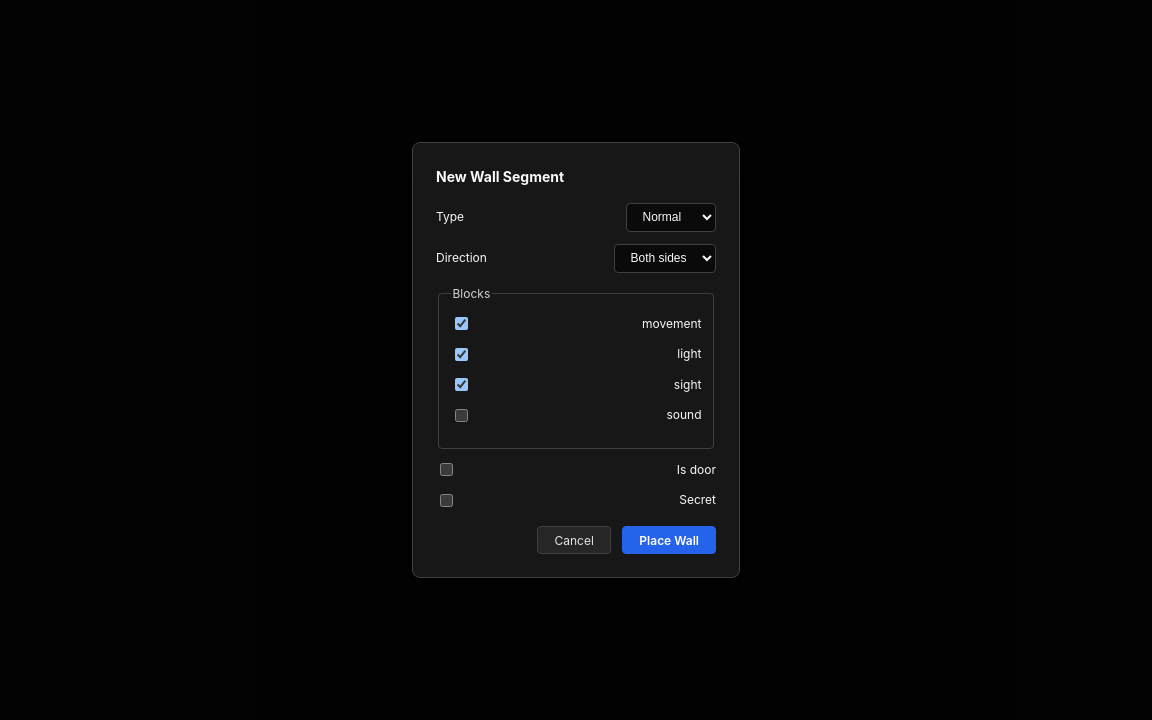
Scenario: WallConfigModal › toggles Is door checkbox
The width and height of the screenshot is (1152, 720).
Click the checkbox labelled "Is door" at (446, 470), box [440,463,453,476]
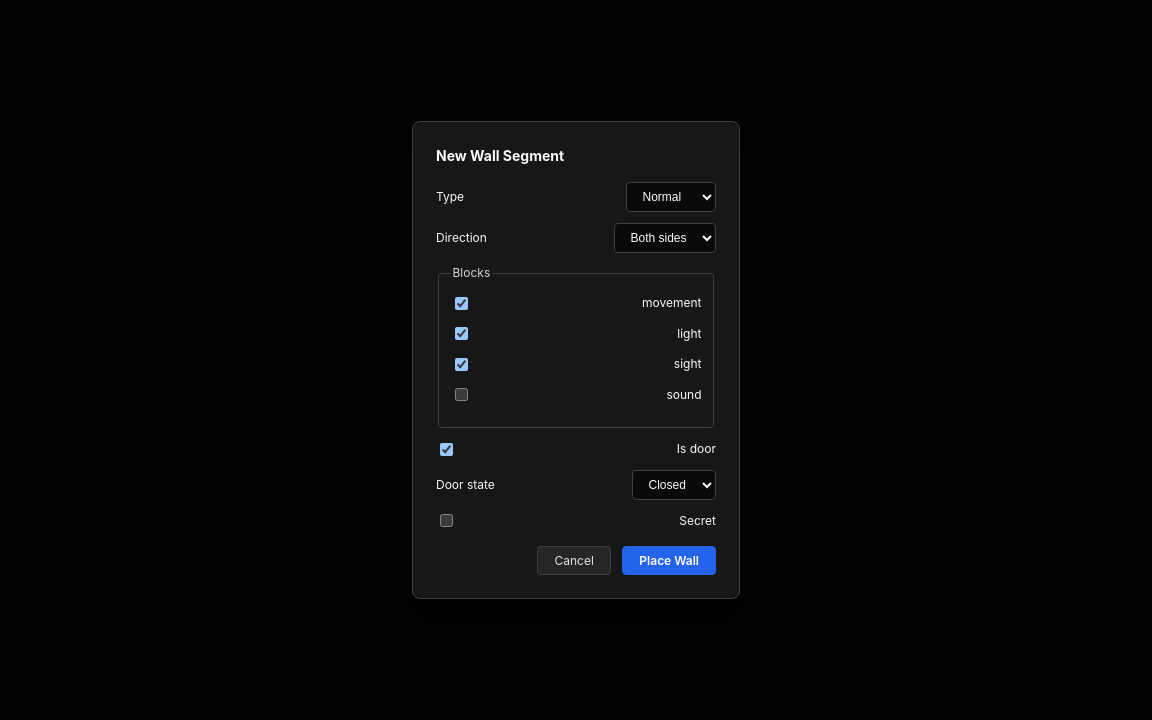
Result: the checkbox labelled "Is door" is checked at [440,443,453,456]
Result: the text "Door state" is shown at [436,470,716,500]
